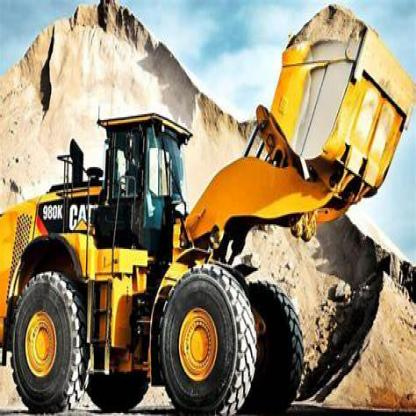bull_dozer/loader/grader: (1, 3, 412, 414)
